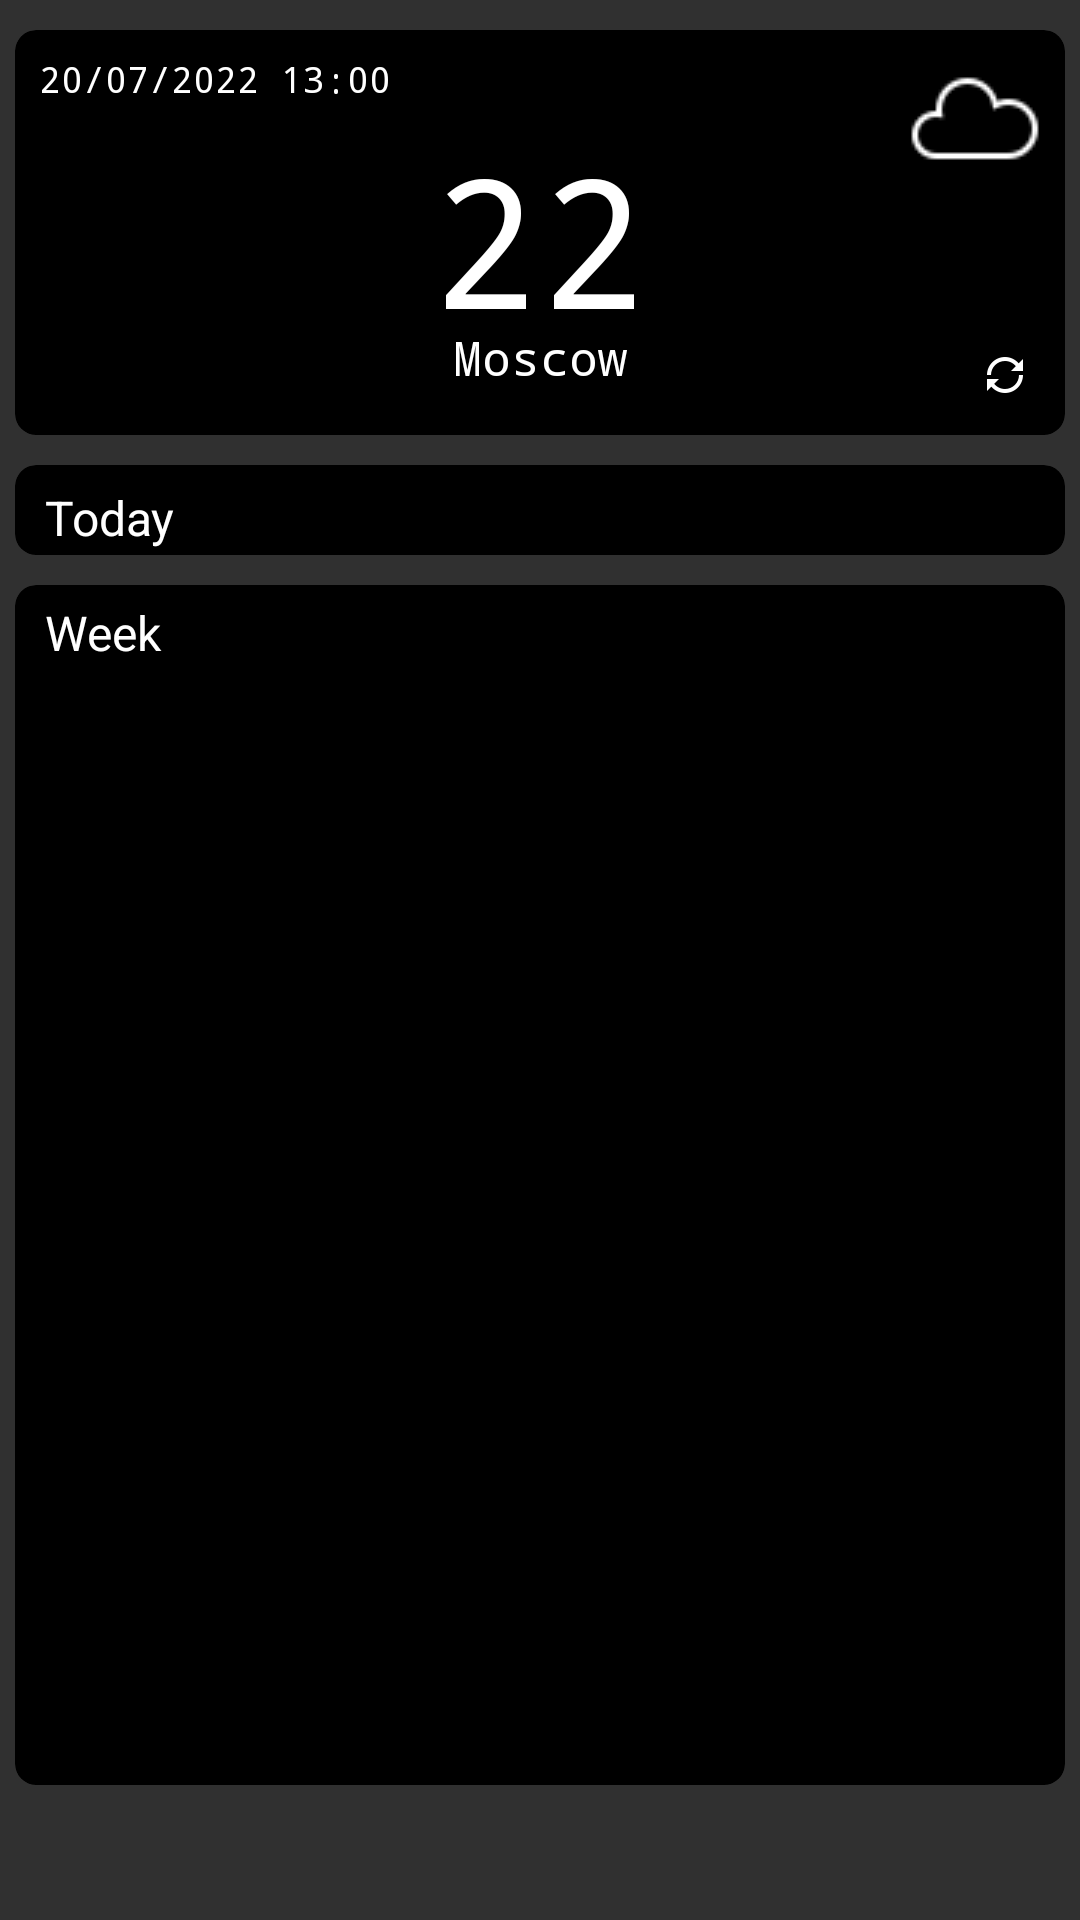

Where icons sit on this 1080 x 1920 app screen, as box(x1, y1, x2, y2):
cloud: box(911, 77, 1039, 160)
updates: box(987, 357, 1023, 393)
